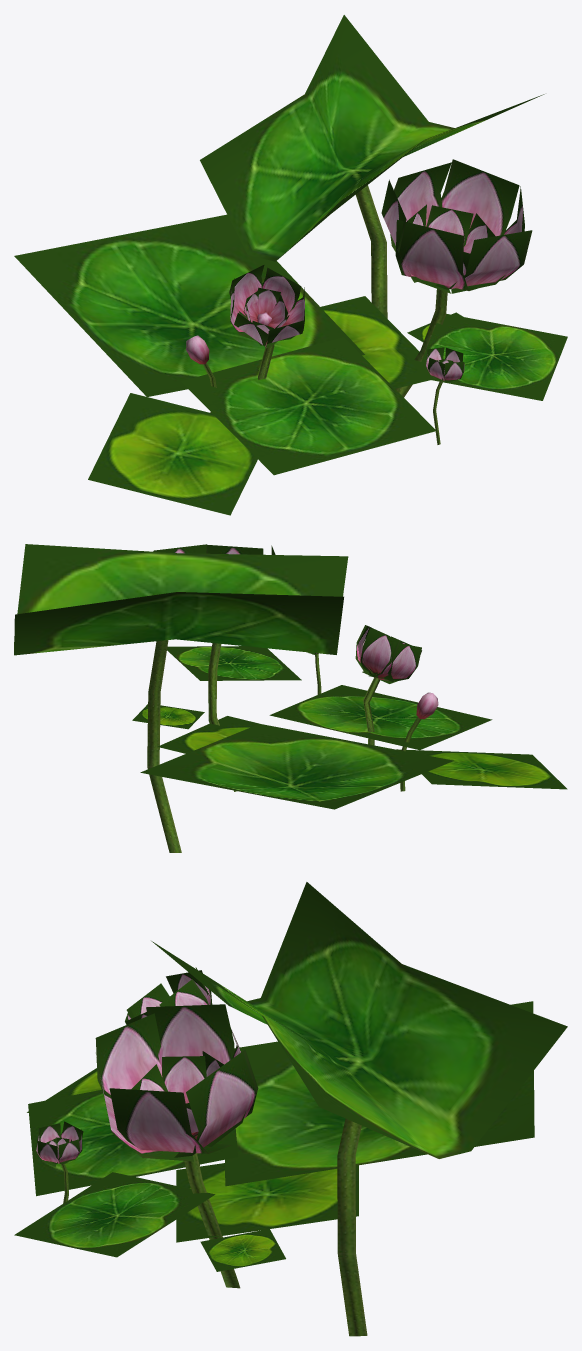
The model's file is Stage_CaoYuan_HeHua03.FBX.
3 renders of one model, top to bottom at view 1: azimuth 30°, elevation 25°; view 2: azimuth 150°, elevation 25°; view 3: azimuth 270°, elevation 25°, orthographic. The views are drawn at different scales.
Visible parts, largest first — view 1: Stage_CaoYuan_HeHua03; view 2: Stage_CaoYuan_HeHua03; view 3: Stage_CaoYuan_HeHua03.
Part boxes in pixels (bbox=[...]): Stage_CaoYuan_HeHua03: bbox=[14, 15, 567, 515]; Stage_CaoYuan_HeHua03: bbox=[14, 544, 567, 852]; Stage_CaoYuan_HeHua03: bbox=[14, 882, 567, 1336].
Bounding box in the file's own units: 123 × 68.45 × 95.85.
